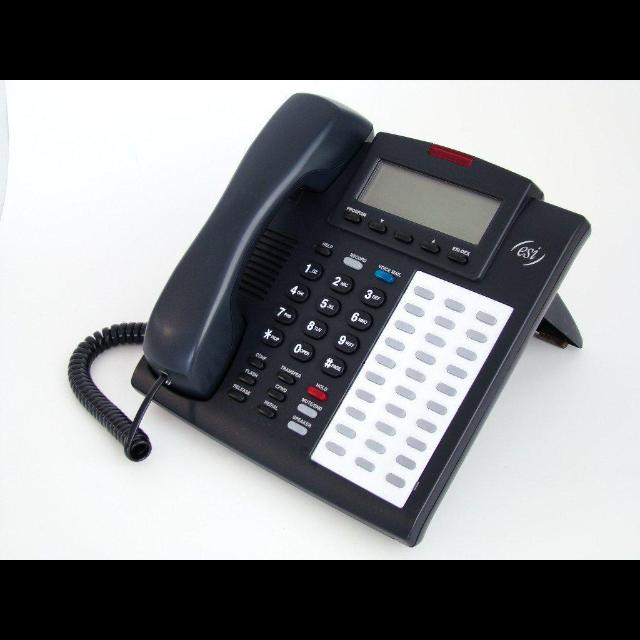Telephone-Set: (120, 80, 582, 554)
